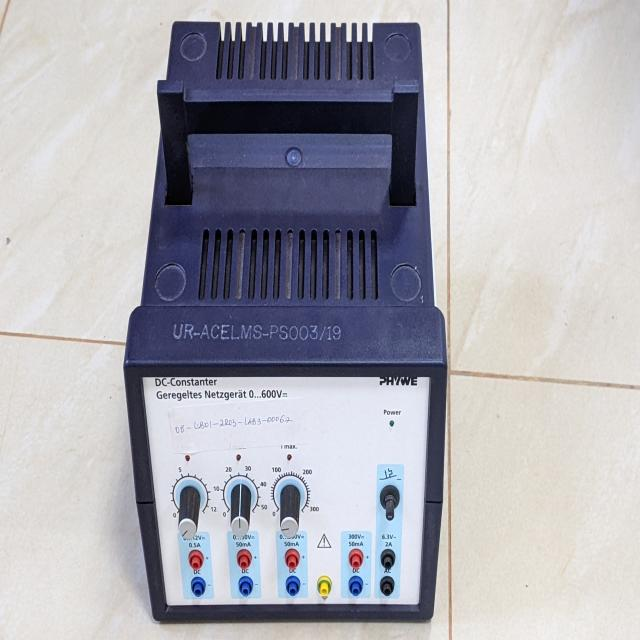Netzgerat Universal Power Supply: (114, 268, 463, 629)
